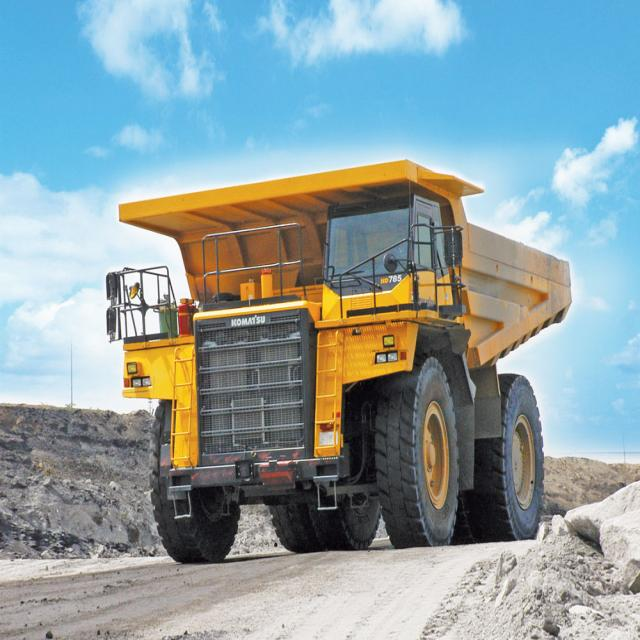dump_truck: (102, 159, 572, 562)
